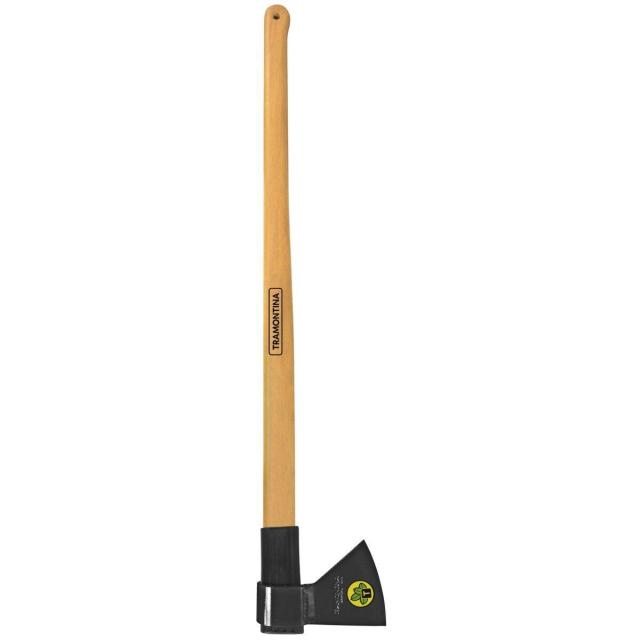Kapak: (199, 6, 384, 638)
